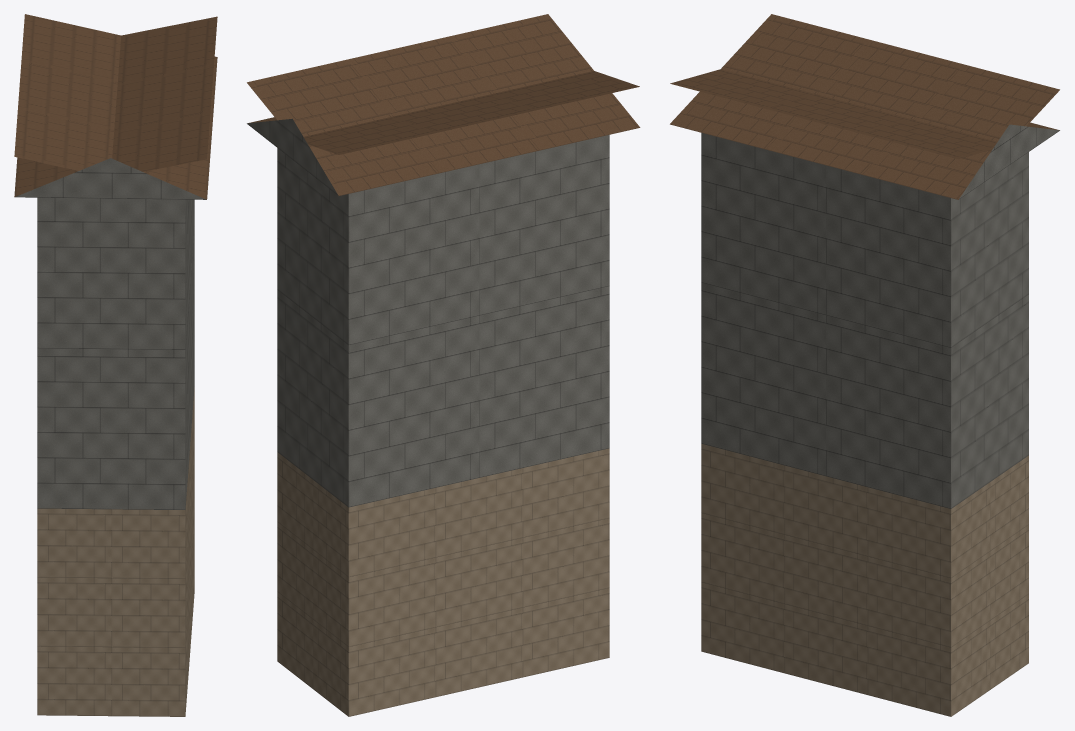
File: bld_c31_-37_465.gltf
The picture shows the model from 3 angles, left to right: view 1: azimuth 30°, elevation 25°; view 2: azimuth 150°, elevation 25°; view 3: azimuth 270°, elevation 25°; orthographic projection.
Visible parts, largest first — view 1: bld_c31_-37_465; view 2: bld_c31_-37_465; view 3: bld_c31_-37_465.
Boxes of the visible parts, x1,y1,x2,y2 form: bld_c31_-37_465: [14, 14, 217, 716]; bld_c31_-37_465: [247, 14, 640, 716]; bld_c31_-37_465: [670, 14, 1059, 716].
Bounding box in the file's own units: 7.64 × 14 × 8.69.
4 materials, 4 textured.
